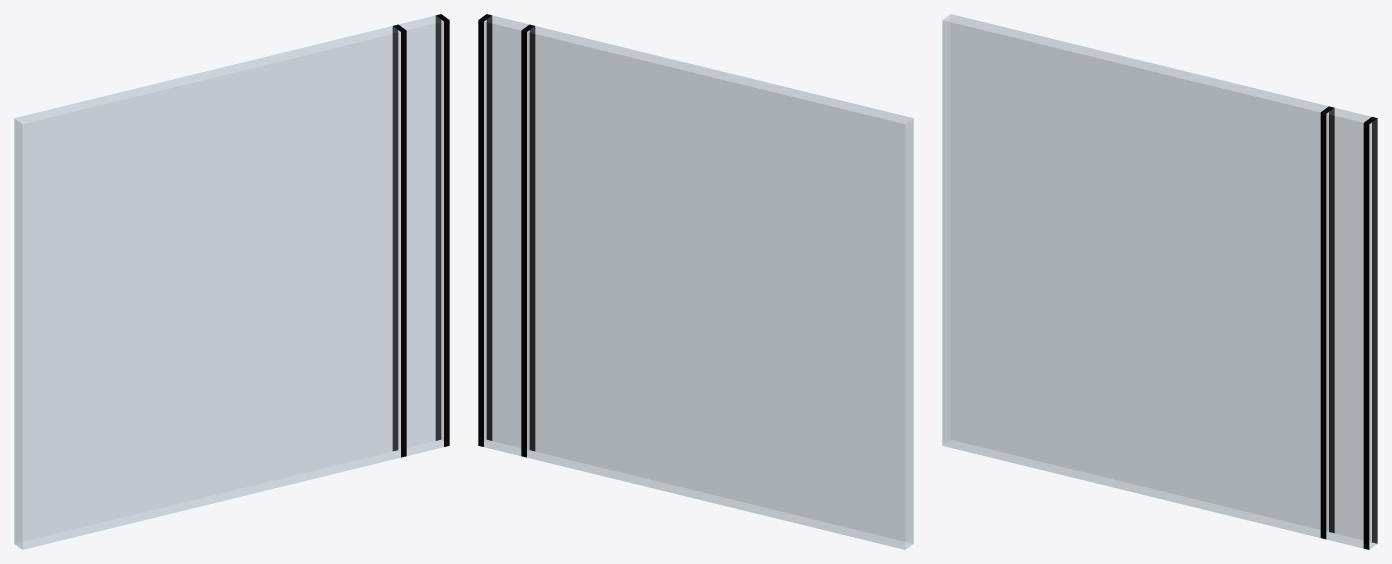
Rendered from glass.fbx.
The picture shows the model from 3 angles, left to right: view 1: azimuth 30°, elevation 25°; view 2: azimuth 150°, elevation 25°; view 3: azimuth 330°, elevation 25°; orthographic projection.
Parts seen in each view (by area): view 1: Model; view 2: Model; view 3: Model.
Boxes of the visible parts, x1,y1,x2,y2 form: Model: (14, 14, 449, 549); Model: (478, 14, 913, 549); Model: (942, 14, 1377, 549).
Size of the model in its own units: 147 by 140 by 5.
